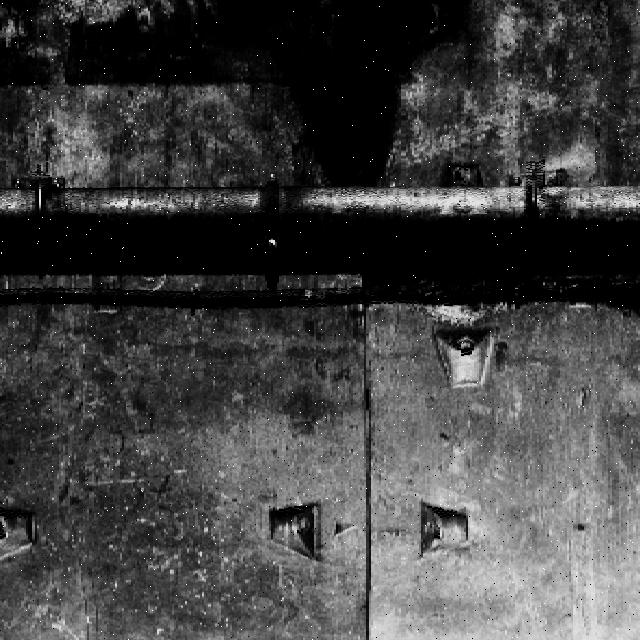leakage: (210, 1, 475, 199)
